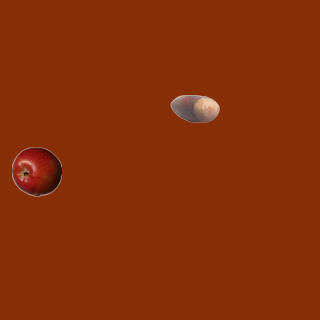Apple Braeburn: (11, 146, 61, 196)
Hazelnut: (169, 83, 219, 133)
